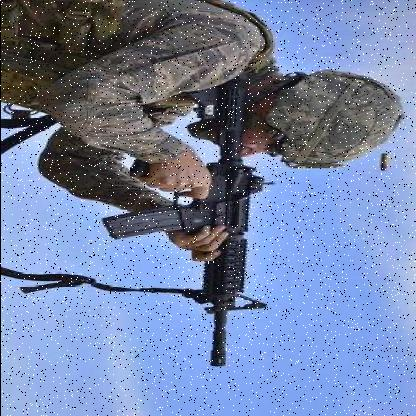rifle: (121, 75, 264, 374)
